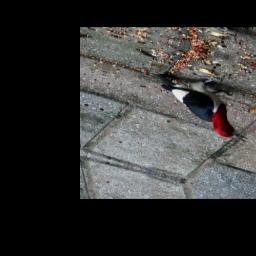Woodpecker: (137, 57, 256, 147)
